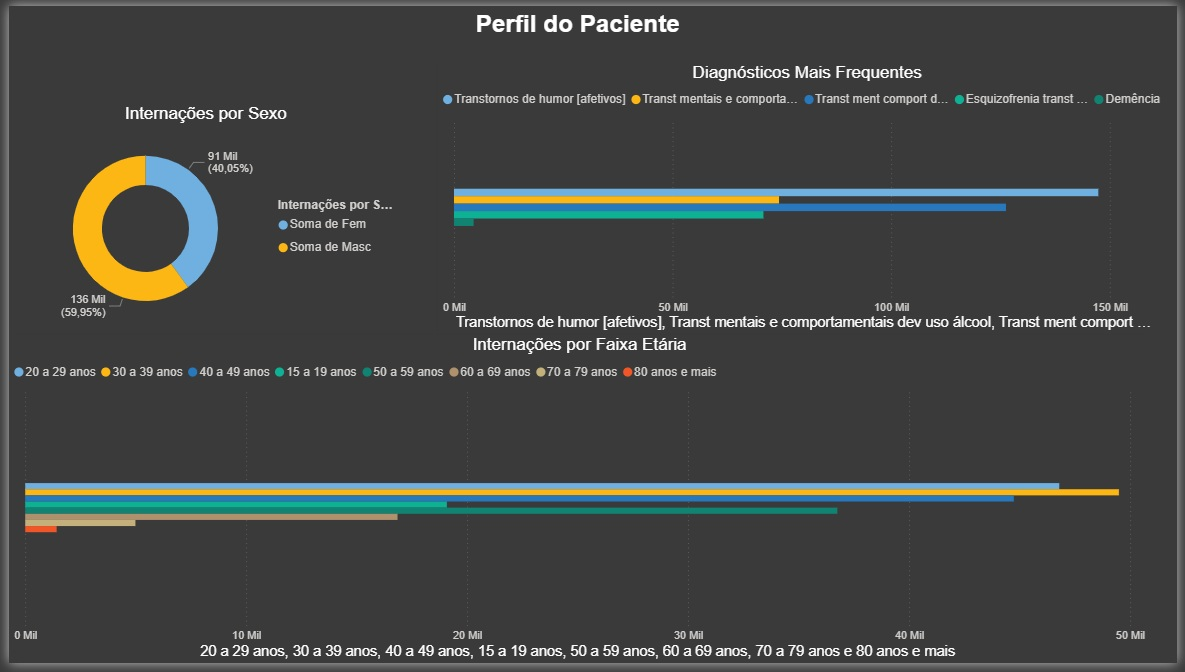

Layout of this report page (visuals, bound fields, positions):
{"tool":"powerbi","page":{"name":"Perfil do Paciente","canvas":[1280,720],"ordinal":1},"visuals":[{"type":"donutChart","title":"Internações por Sexo","fields":{"Y":["Sum(por_sexo2.Fem)","Sum(por_sexo2.Masc)"]},"box":[0,106.8,431.5,253.4],"z":0},{"type":"clusteredBarChart","title":"Internações por Faixa Etária","fields":{"Y":["Sum(por_faixa_etaria3.20 a 29 anos)","Sum(por_faixa_etaria3.30 a 39 anos)","Sum(por_faixa_etaria3.40 a 49 anos)","Sum(por_faixa_etaria3.15 a 19 anos)","Sum(por_faixa_etaria3.50 a 59 anos)","Sum(por_faixa_etaria3.60 a 69 anos)","Sum(por_faixa_etaria3.70 a 79 anos)","Sum(por_faixa_etaria3.80 anos e mais)"]},"box":[0,360.3,1250.7,360.3],"z":1000},{"type":"clusteredBarChart","title":"Diagnósticos Mais Frequentes","fields":{"Y":["Sum(por_diagnostico4... Transtornos de humor [afetivos])","Sum(por_diagnostico4... Transt mentais e comportamentais dev uso álcool)","Sum(por_diagnostico4... Transt ment comport dev uso outr subst psicoat)","Sum(por_diagnostico4... Esquizofrenia transt esquizotípicos e delirant)","Sum(por_diagnostico4... Demência)"]},"box":[469.9,61.6,809.6,298.6],"z":2000},{"type":"textbox","box":[282.2,0,682.2,61.6],"z":3000}]}

Visuals, with their boxes in screenshot pixels (x1, y1, x2, y2), scaled from the page's 1280x720 canvas onto the 1185x672 screenshot:
"Internações por Sexo" donutChart: <region>0, 100, 399, 336</region>
"Internações por Faixa Etária" clusteredBarChart: <region>0, 336, 1158, 671</region>
"Diagnósticos Mais Frequentes" clusteredBarChart: <region>435, 57, 1184, 336</region>
textbox: <region>261, 0, 893, 57</region>
